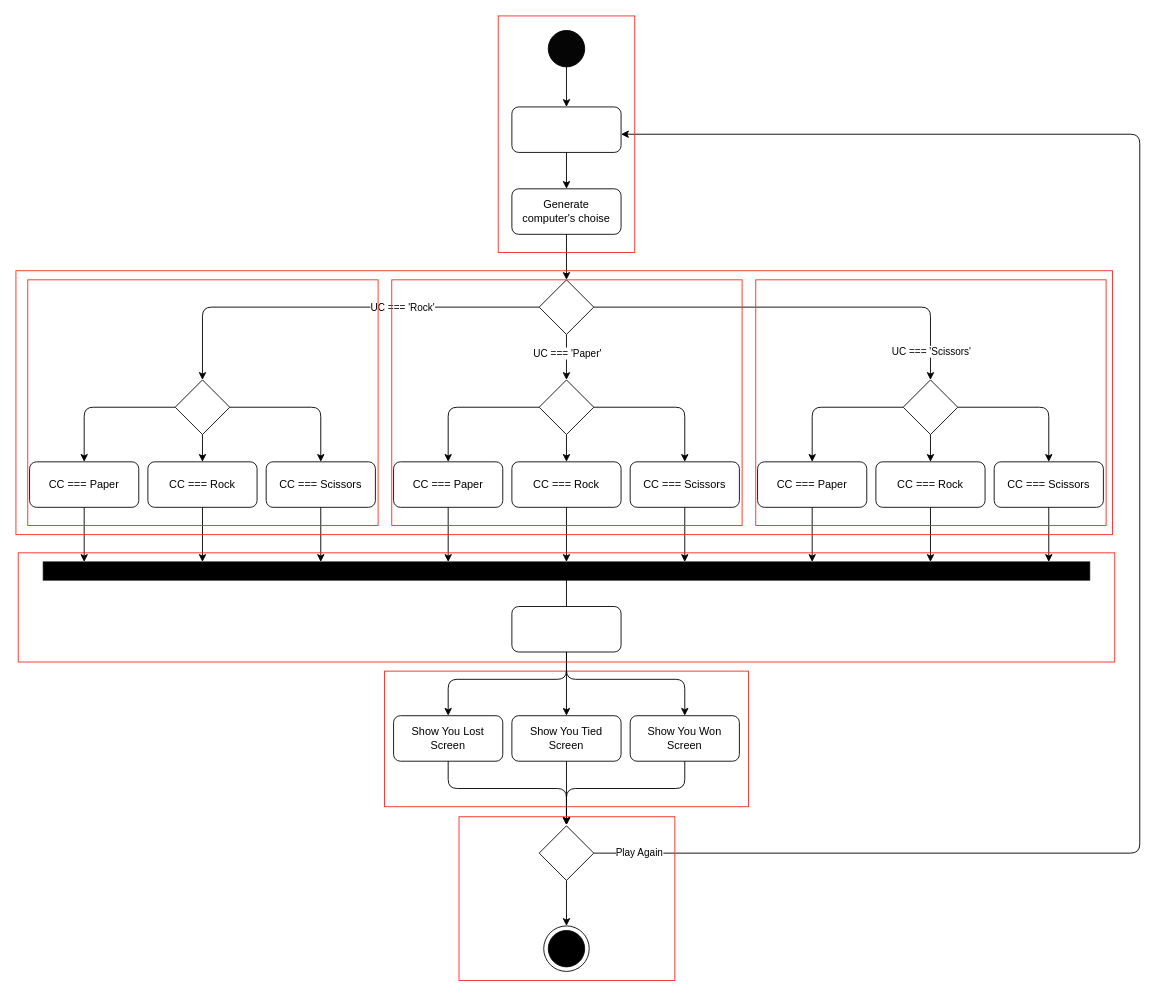
Image size: 1163x996. Some labels were removed from this diagram. Here are the shapes that lost their labels. From the top down, the centre of each, then its label:
At (x=566, y=129): "User selects choice".
At (x=566, y=629): "Determine Winner".
